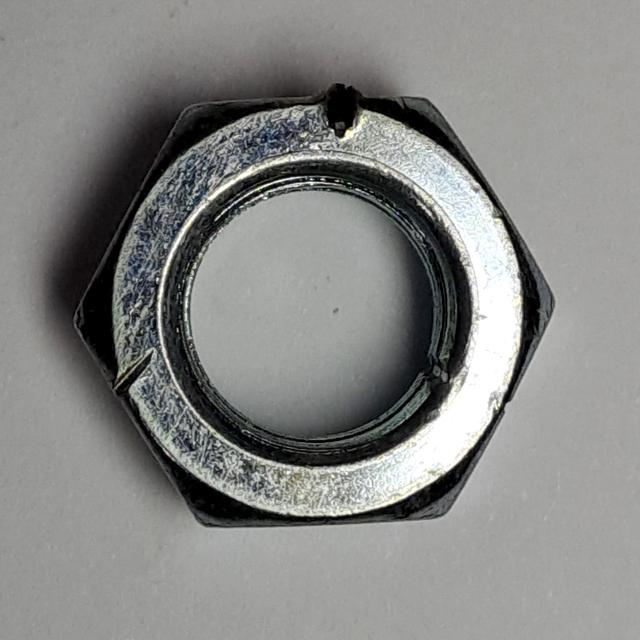Scratches: (68, 60, 567, 538)
